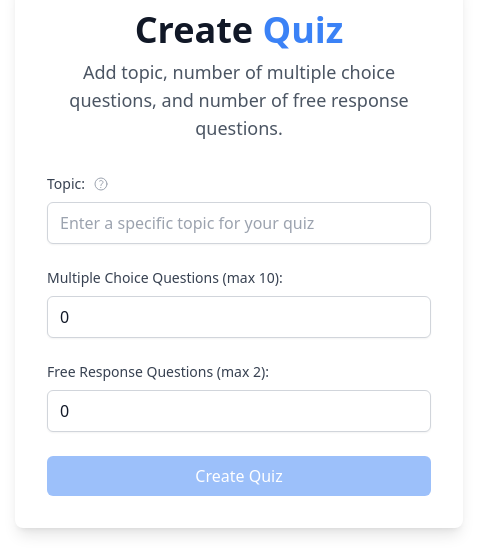
Test case: Create Quiz Page › limits multiple choice questions to 10
This screenshot has width=479, height=554.
Replace the text in the number field labelled "Multiple Choice Questions (max 10):" with "15" at (239, 317), box [47, 296, 431, 338]
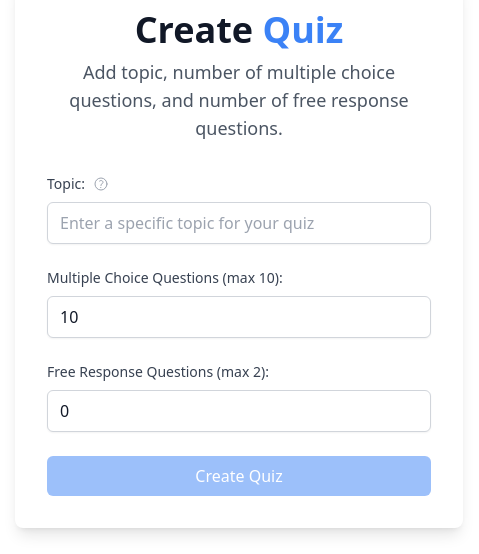
Now the number field labelled "Multiple Choice Questions (max 10):" holds "10", box [47, 296, 431, 338]
